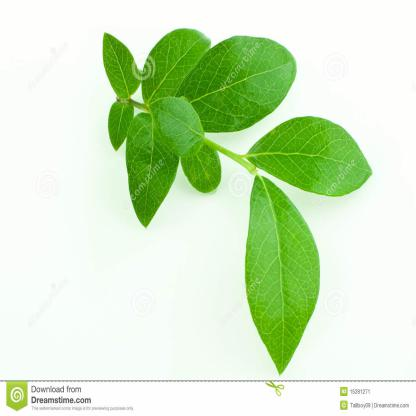blueberry leaf: (244, 164, 327, 381), (248, 113, 393, 201), (186, 32, 304, 135), (116, 102, 186, 244), (141, 25, 217, 109), (140, 89, 211, 154), (97, 25, 138, 103)
